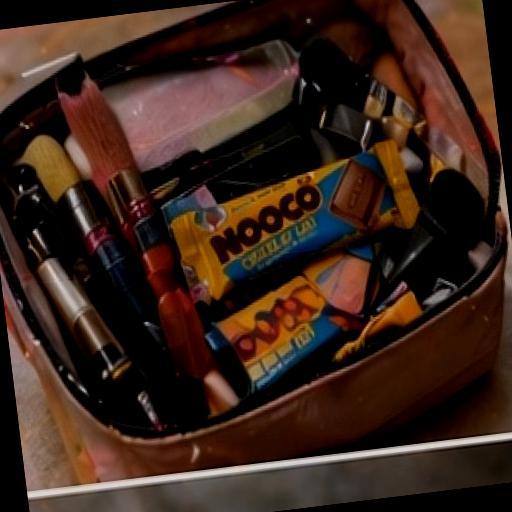biscuit-detection: (175, 242, 466, 382), (148, 141, 442, 275)
